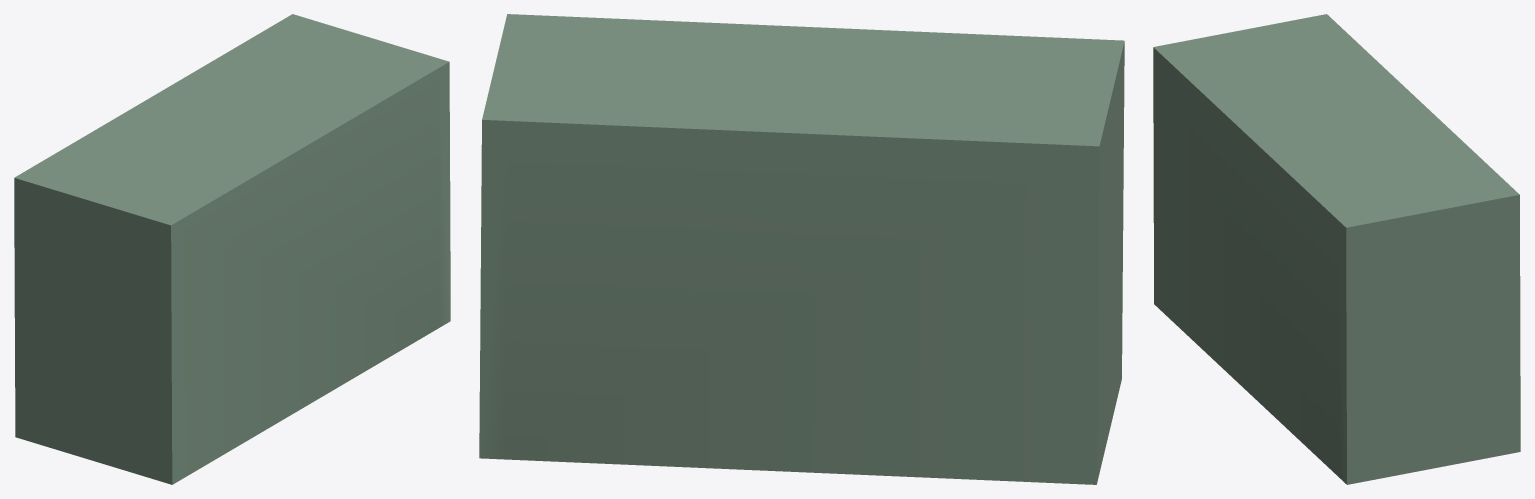
Rendered from MSH_QuestObject_cabinet_09.fbx.
3 views of the same model, side by side, from view 1: azimuth 30°, elevation 25°; view 2: azimuth 150°, elevation 25°; view 3: azimuth 270°, elevation 25° (orthographic). The views are drawn at different scales.
Parts seen in each view (by area): view 1: MSH_QuestObject_cabinet_09; view 2: MSH_QuestObject_cabinet_09; view 3: MSH_QuestObject_cabinet_09.
Part boxes in pixels (x1,y1,x2,y2): MSH_QuestObject_cabinet_09: (14, 14, 450, 484); MSH_QuestObject_cabinet_09: (479, 14, 1124, 484); MSH_QuestObject_cabinet_09: (1153, 14, 1520, 484).
Size of the model in its own units: 1.44 by 0.8025 by 1.04.
